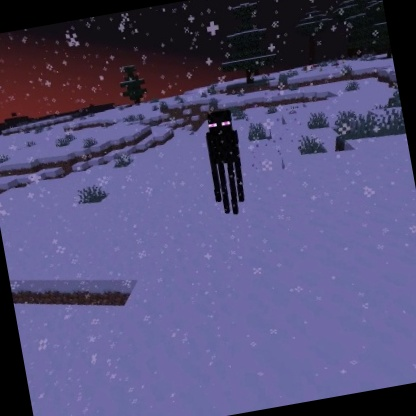enderman: (197, 105, 254, 219)
